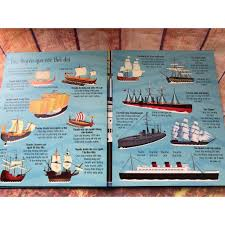tau_dansu: (124, 156, 218, 181), (118, 120, 168, 147), (120, 57, 154, 86), (67, 70, 101, 88)
